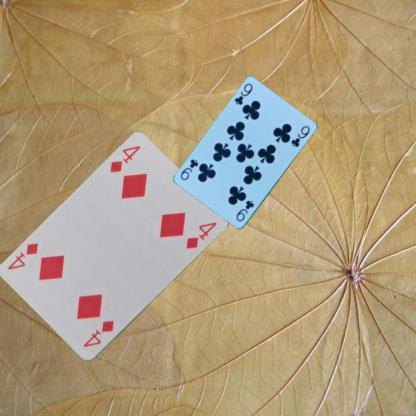4d: (80, 318, 116, 349), (107, 144, 142, 174)
9c: (233, 198, 256, 223), (232, 81, 254, 106)
